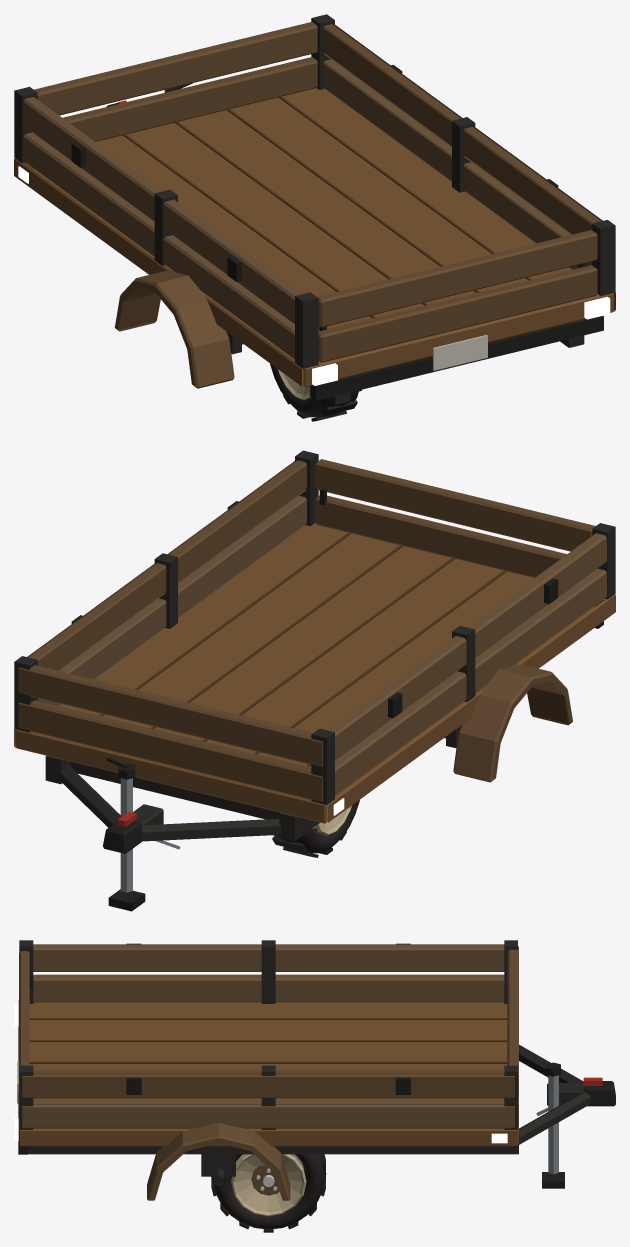
The model's file is PonyTrailer_Rustbucket.glb.
3 views of the same model, one above another, from view 1: azimuth 30°, elevation 25°; view 2: azimuth 150°, elevation 25°; view 3: azimuth 270°, elevation 25° (orthographic). The views are drawn at different scales.
Visible parts, largest first — view 1: Bed, Body, Wheel, Lights; view 2: Bed, Body, Hitch, Wheel; view 3: Bed, Body, Wheel, Hitch, Lights.
Part boxes in pixels (<box>): Bed: <box>14,14,615,387</box>; Body: <box>114,269,603,404</box>; Wheel: <box>270,363,361,421</box>; Lights: <box>18,166,610,385</box>; Bed: <box>14,450,615,823</box>; Body: <box>45,621,603,841</box>; Hitch: <box>59,757,281,911</box>; Wheel: <box>272,800,359,857</box>; Bed: <box>18,940,518,1146</box>; Body: <box>17,1026,518,1200</box>; Wheel: <box>211,1154,326,1232</box>; Hitch: <box>508,1044,615,1188</box>; Lights: <box>14,1003,507,1143</box>.
Size of the model in its own units: 9.79 by 6.32 by 15.64.
